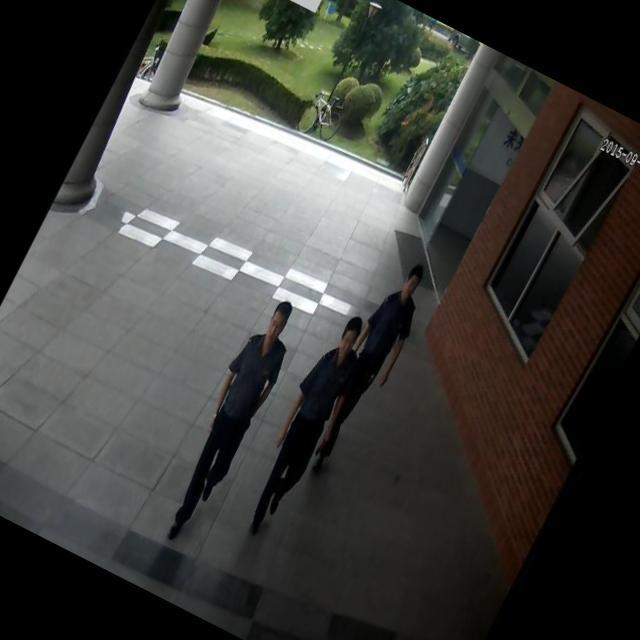person: (144, 290, 312, 554), (230, 308, 381, 546), (295, 256, 444, 490)
